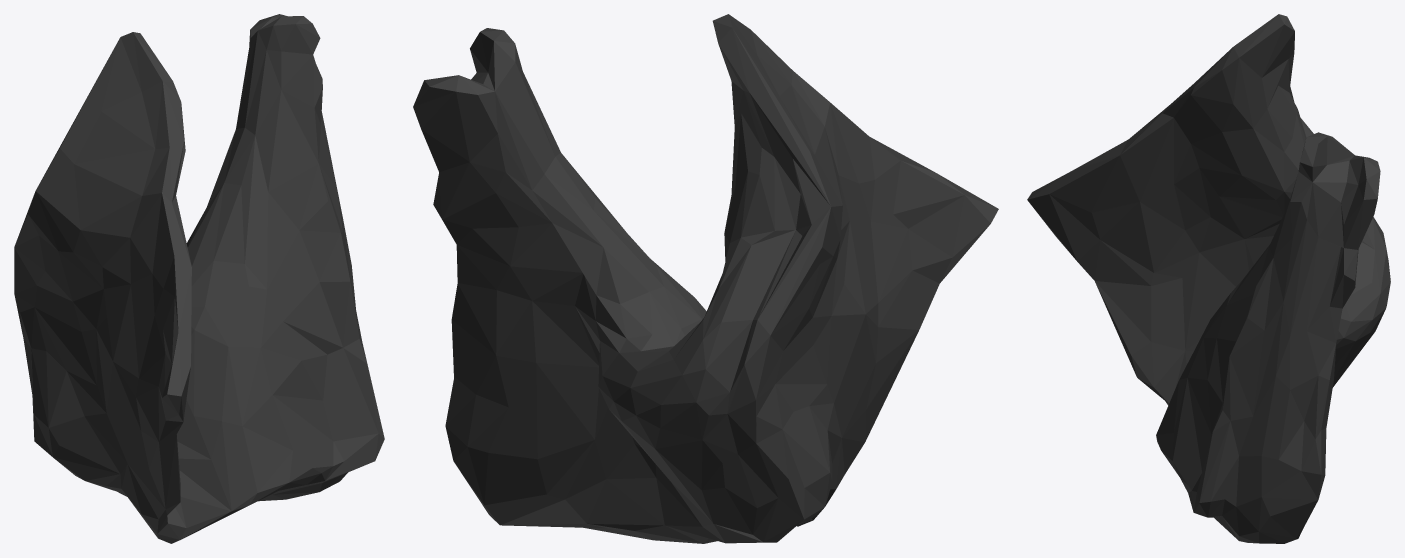
File: rumenoreticular_fold.glb
3 renders of one model, left to right at view 1: azimuth 30°, elevation 25°; view 2: azimuth 150°, elevation 25°; view 3: azimuth 270°, elevation 25°, orthographic. The views are drawn at different scales.
Visible parts, largest first — view 1: rumenoreticular_fold; view 2: rumenoreticular_fold; view 3: rumenoreticular_fold.
Boxes of the visible parts, x1,y1,x2,y2 form: rumenoreticular_fold: (14, 14, 384, 543); rumenoreticular_fold: (413, 14, 998, 543); rumenoreticular_fold: (1027, 14, 1390, 543).
Size of the model in its own units: 0.3621 by 0.5248 by 0.3852.
1 material, 1 textured.
